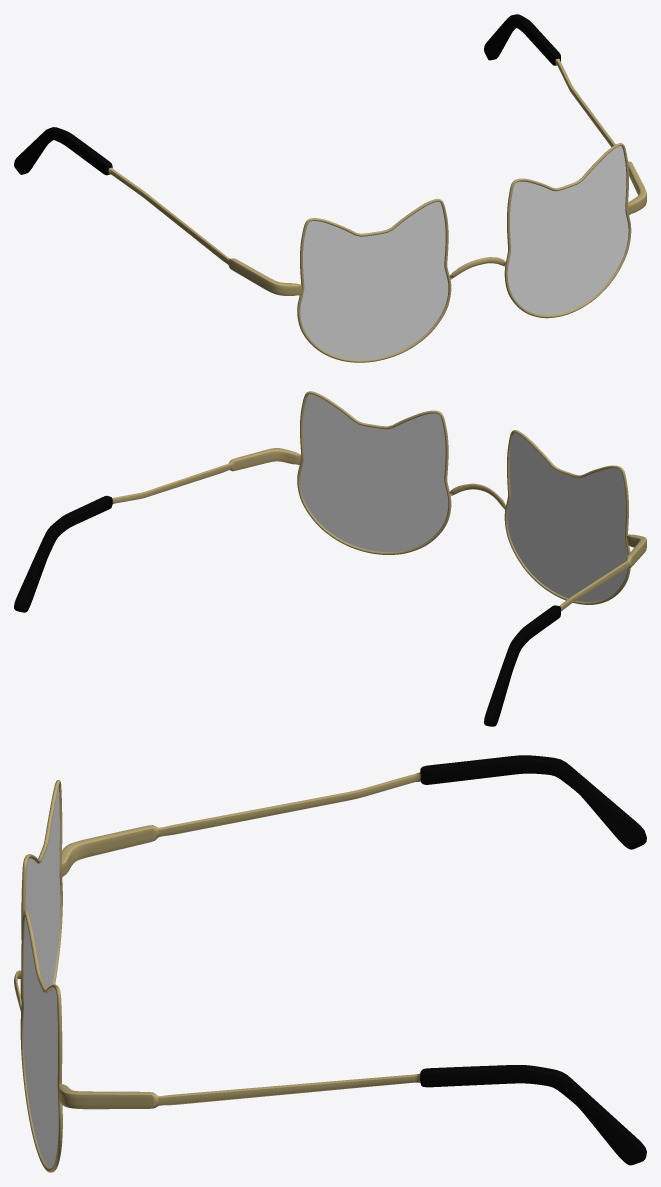
File: glasses02.glb
3 views of the same model, one above another, from view 1: azimuth 30°, elevation 25°; view 2: azimuth 150°, elevation 25°; view 3: azimuth 270°, elevation 25° (orthographic). The views are drawn at different scales.
Parts seen in each view (by area): view 1: Circle.001, Circle; view 2: Circle.001, Circle; view 3: Circle, Circle.001.
Part boxes in pixels (x1,y1,x2,y2): Circle.001: [300, 146, 628, 359]; Circle: [14, 14, 646, 362]; Circle.001: [300, 394, 627, 601]; Circle: [14, 391, 646, 726]; Circle: [14, 755, 646, 1172]; Circle.001: [23, 787, 60, 1168].
Bounding box in the file's own units: 0.139 × 0.0424 × 0.1153.
